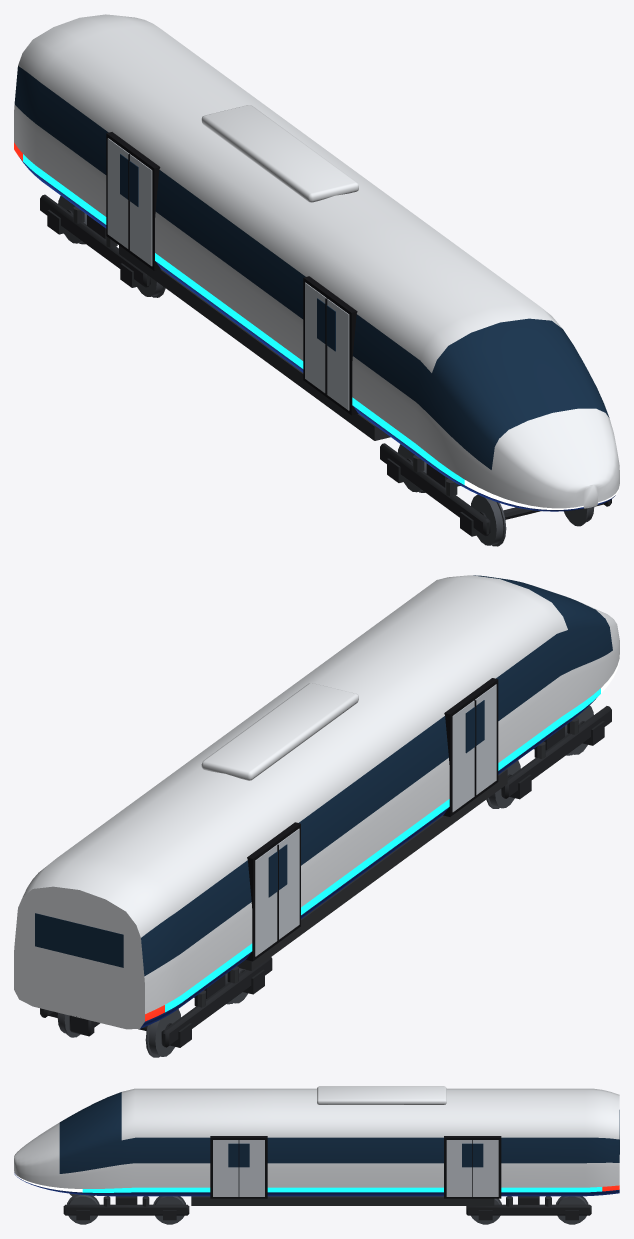
Rendered from train_modern.glb.
3 views of the same model, one above another, from view 1: azimuth 30°, elevation 25°; view 2: azimuth 150°, elevation 25°; view 3: azimuth 270°, elevation 25° (orthographic). The views are drawn at different scales.
Parts seen in each view (by area): view 1: Train_Body, Train_Bogie_Front, Train_Underframe, Train_Bogie_Rear; view 2: Train_Body, Train_Bogie_Rear, Train_Underframe, Train_Bogie_Front; view 3: Train_Body, Train_Underframe, Train_Bogie_Front, Train_Bogie_Rear.
Boxes of the visible parts, x1,y1,x2,y2 form: Train_Body: (14,14,619,511); Train_Bogie_Front: (380,443,611,546); Train_Underframe: (119,245,390,440); Train_Bogie_Rear: (40,194,165,297); Train_Body: (14,575,619,1029); Train_Bogie_Rear: (40,957,272,1057); Train_Underframe: (69,769,507,1036); Train_Bogie_Front: (486,705,611,808); Train_Body: (14,1086,619,1198); Train_Underframe: (191,1196,494,1205); Train_Bogie_Front: (63,1193,189,1224); Train_Bogie_Rear: (466,1196,591,1224).
Size of the model in its own units: 2.37 by 3.03 by 14.01.
